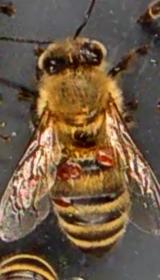varroa_mite: (47, 156, 84, 186), (89, 140, 122, 168), (54, 192, 78, 208)
